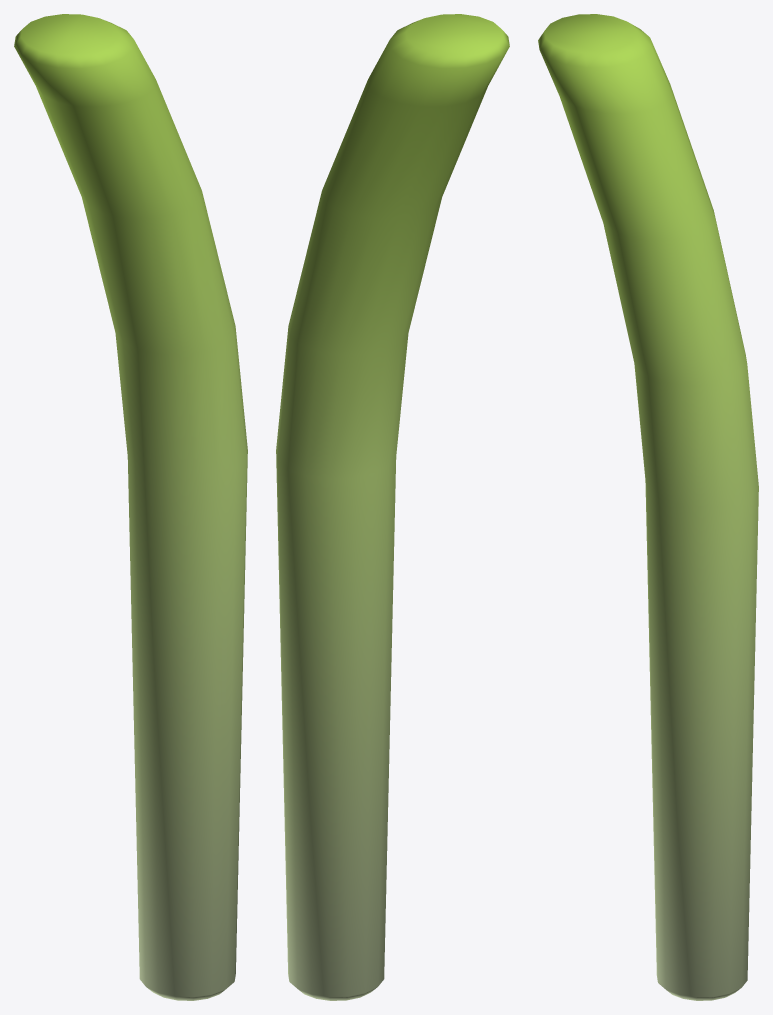
Rendered from celery.glb.
The picture shows the model from 3 angles, left to right: view 1: azimuth 30°, elevation 25°; view 2: azimuth 150°, elevation 25°; view 3: azimuth 330°, elevation 25°; orthographic projection. The views are drawn at different scales.
Parts seen in each view (by area): view 1: Cylinder.004; view 2: Cylinder.004; view 3: Cylinder.004.
Boxes of the visible parts, x1,y1,x2,y2 form: Cylinder.004: [14, 14, 247, 1000]; Cylinder.004: [276, 14, 509, 1000]; Cylinder.004: [538, 14, 758, 1000].
Size of the model in its own units: 0.0629 by 0.2692 by 0.0302.
Materials: 1 (1 with a texture image).
